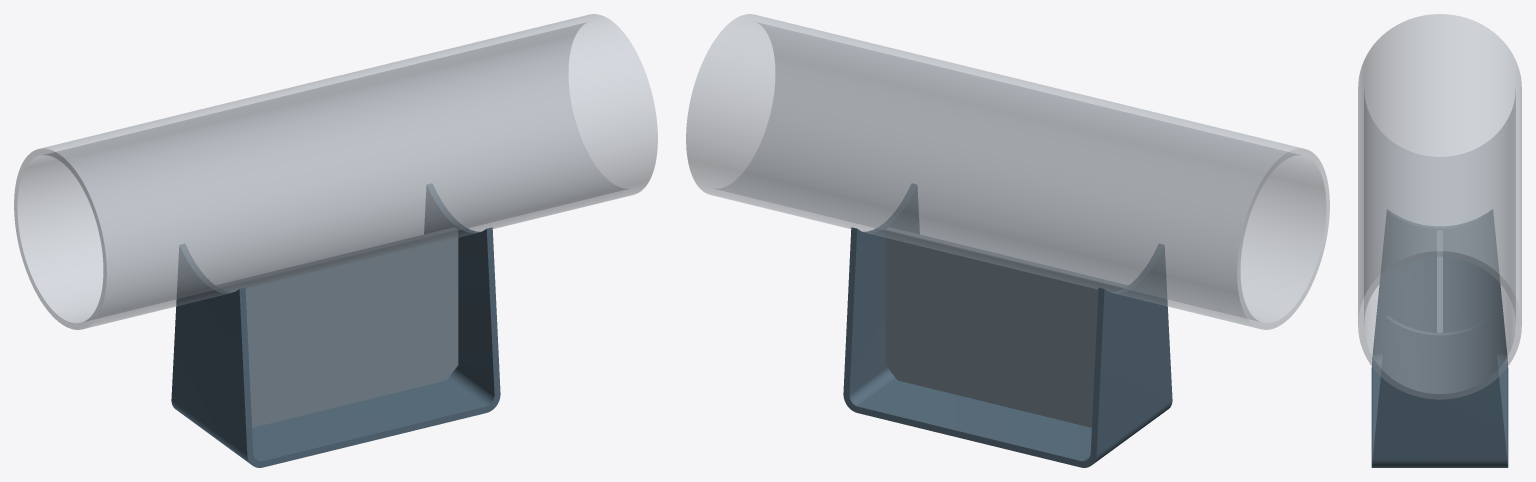
Rendered from TS-623.000-06-opora-dn108-H100-L170.glb.
3 views of the same model, side by side, from view 1: azimuth 30°, elevation 25°; view 2: azimuth 150°, elevation 25°; view 3: azimuth 270°, elevation 25° (orthographic). The views are drawn at different scales.
Visible parts, largest first — view 1: truba, rebro, skoba; view 2: truba, rebro, skoba; view 3: truba, skoba, rebro.
Part boxes in pixels (bbox=[...]): truba: bbox=[14, 14, 657, 329]; rebro: bbox=[216, 227, 458, 427]; skoba: bbox=[171, 183, 500, 467]; truba: bbox=[686, 14, 1329, 329]; rebro: bbox=[885, 227, 1127, 427]; skoba: bbox=[843, 183, 1172, 467]; truba: bbox=[1358, 14, 1521, 399]; skoba: bbox=[1371, 209, 1508, 467]; rebro: bbox=[1437, 230, 1442, 332].
Size of the model in its own units: 370 by 208 by 108.
